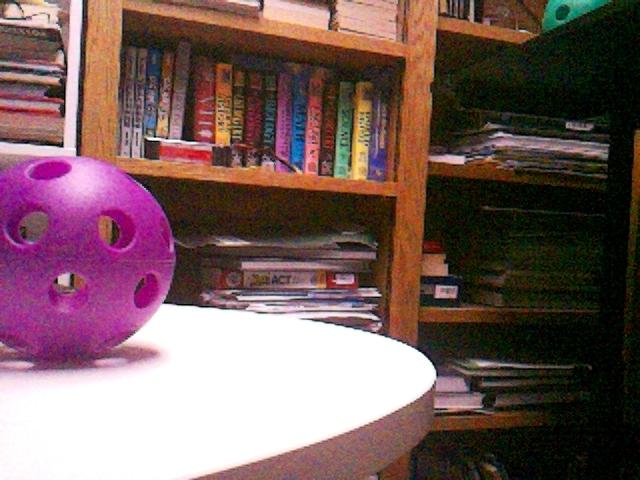Purple: (0, 158, 178, 363)
